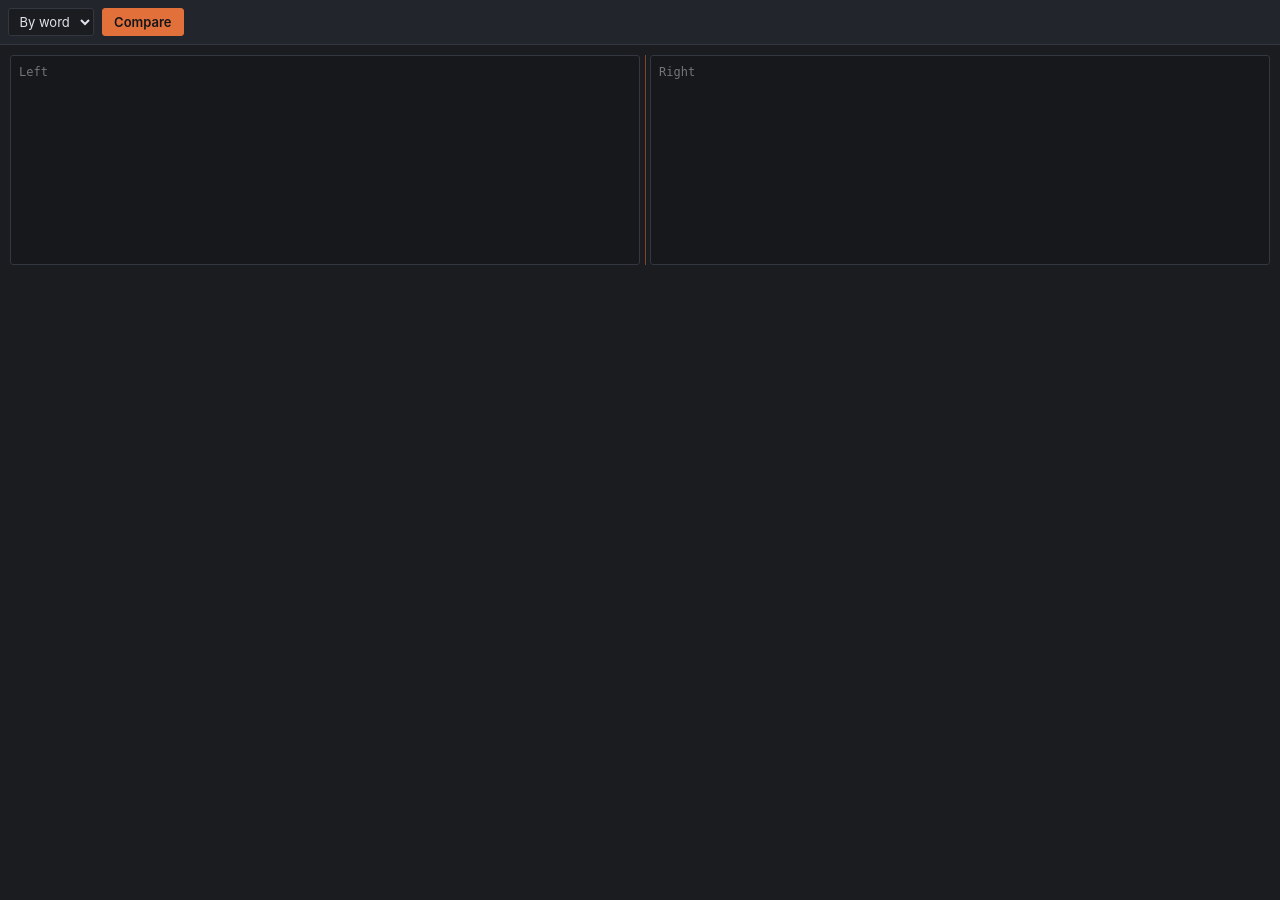
Test case: DiffTab › supports byte mode
The image size is (1280, 900).
Select "By byte" in the dropdown named "compare mode": (51, 22) [8,8,94,36]
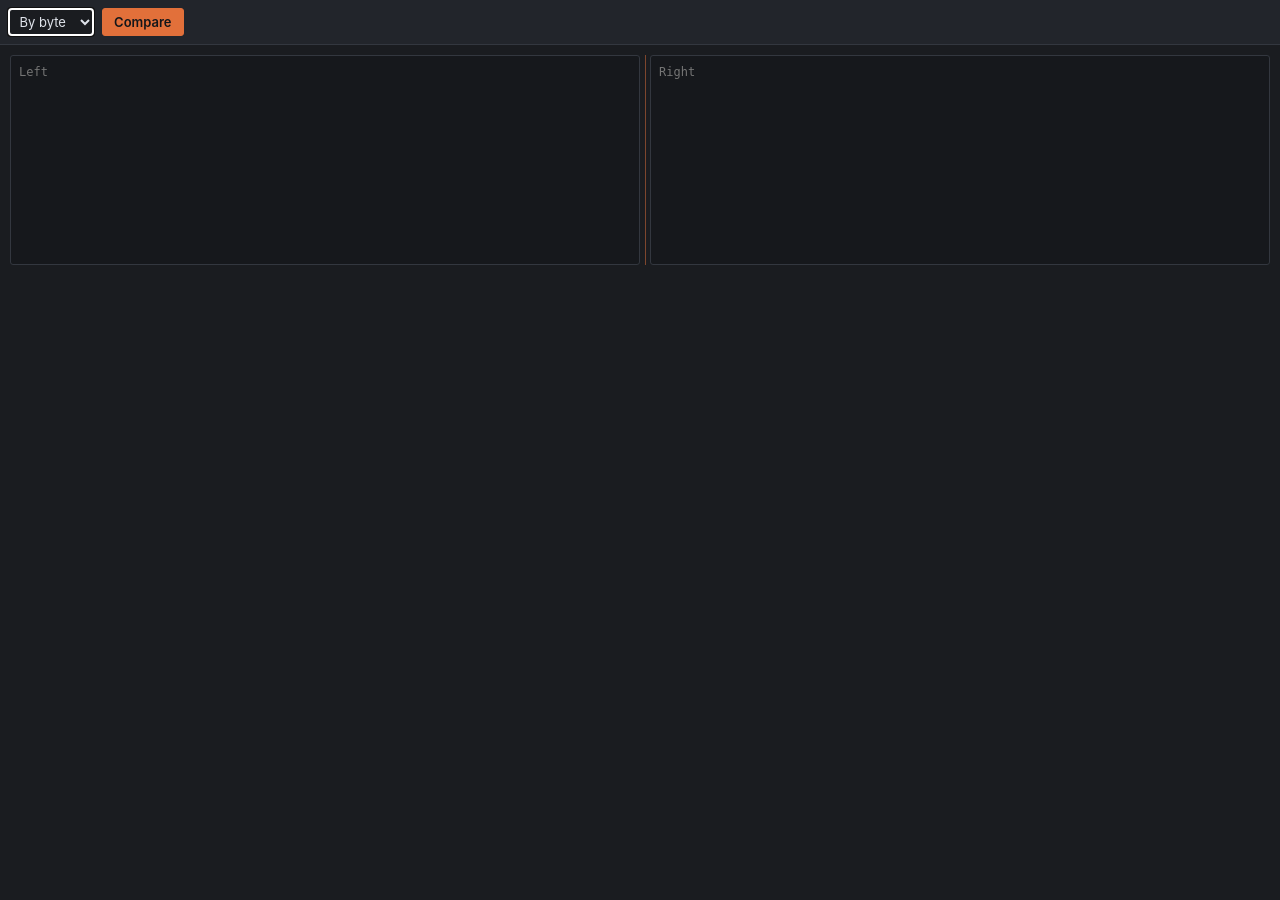
Click the button "Compare": (143, 22) [102,8,184,36]
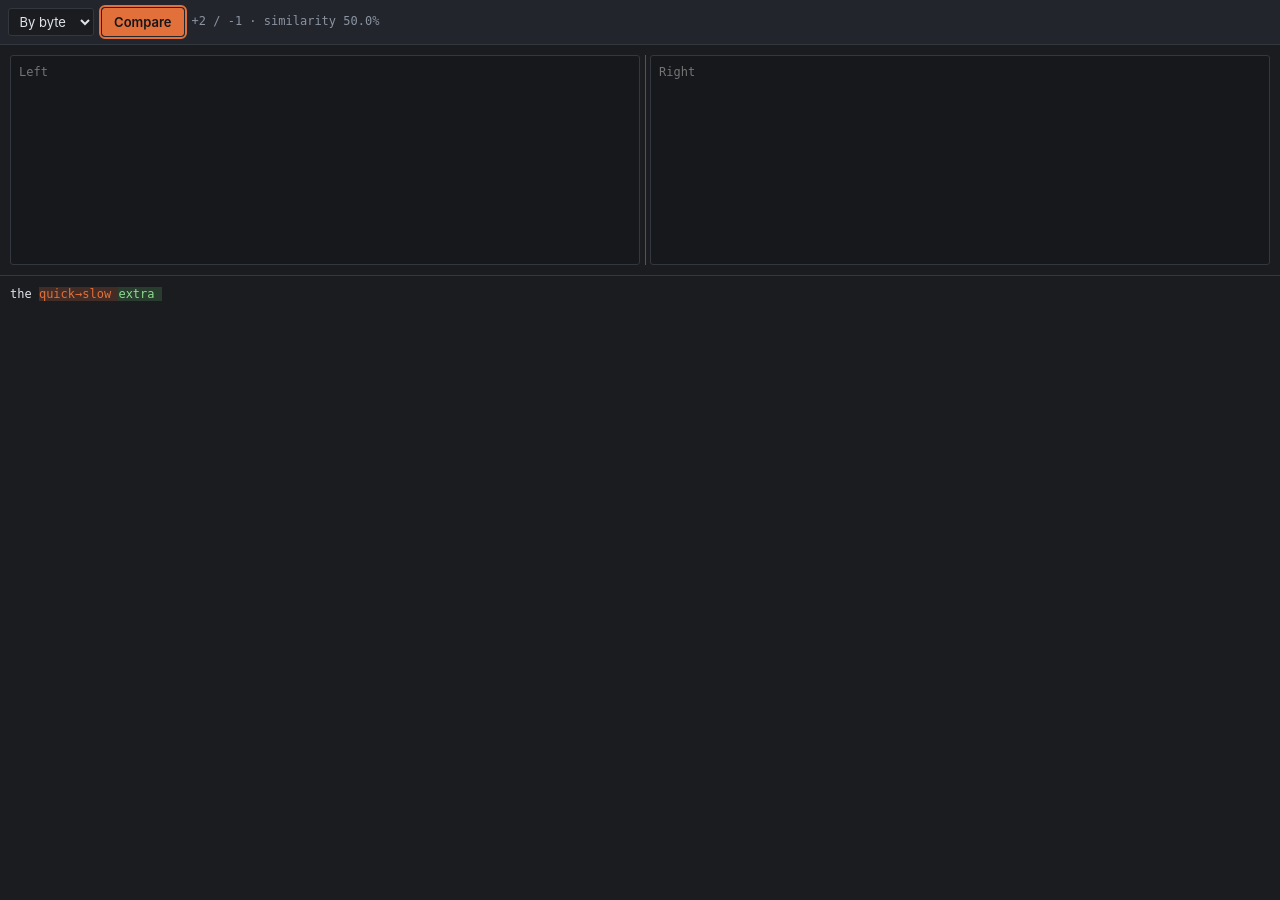
Expected: the element with test id "diff" is shown
